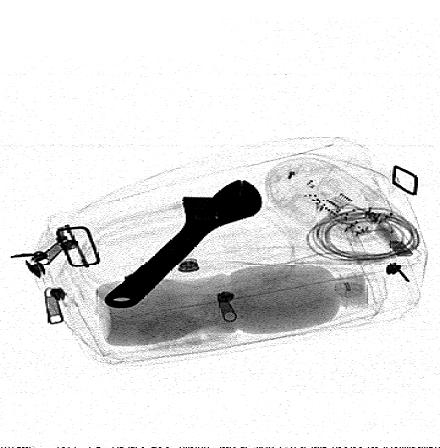Wrench: (102, 178, 266, 310)
